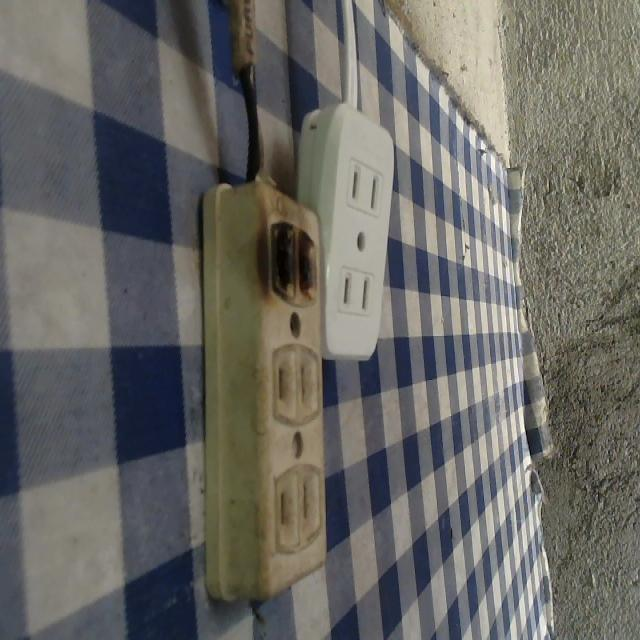-: (247, 212, 329, 305)
